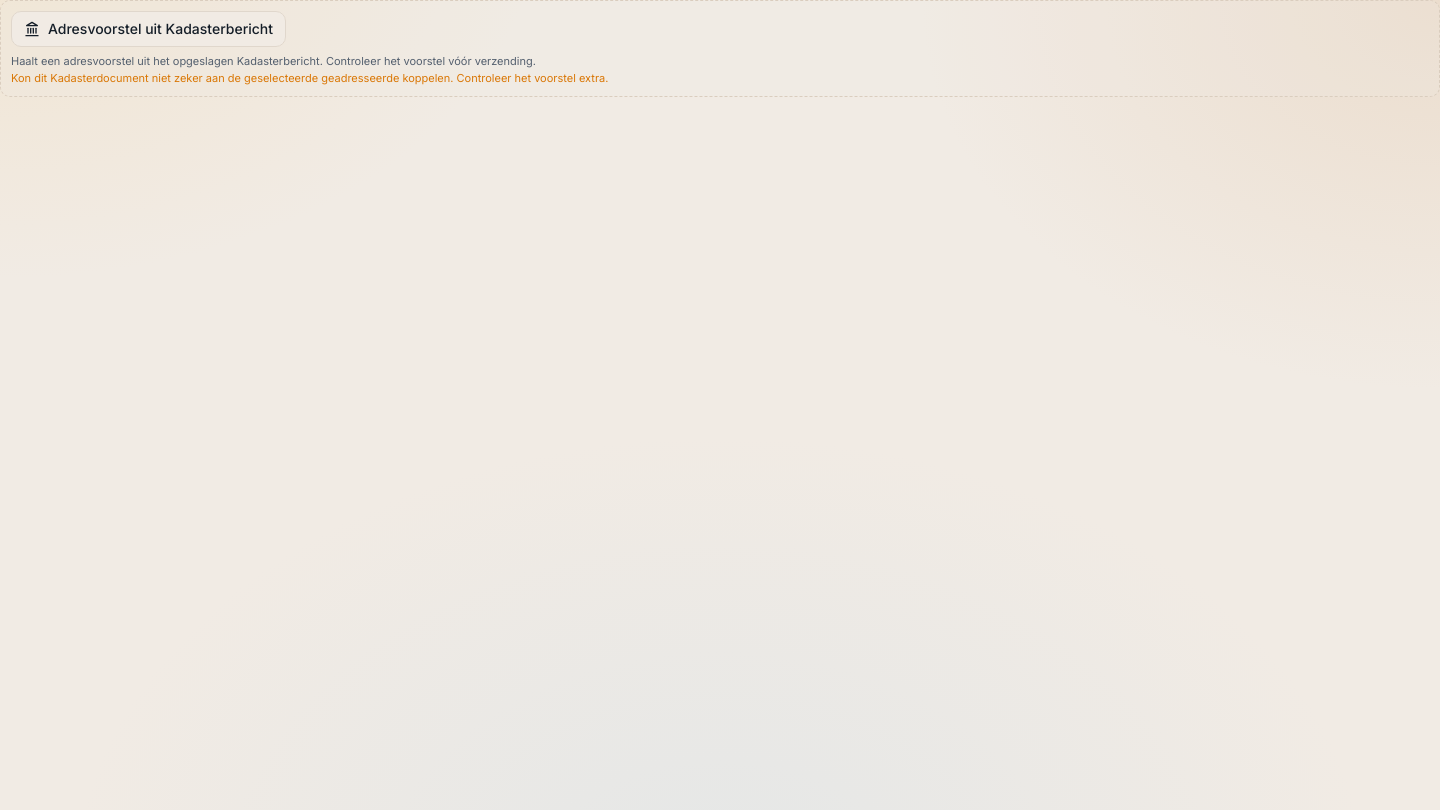
Test: KadasterPdfAdresVoorstelPanel · labels en matching › toont volledige naam in het labelmaar geen adres (trigger reflecteert match)
This screenshot has width=1440, height=810.
Click the button with test id "kpv-start-knop" at (148, 29), box left=11, top=11, right=286, bottom=47
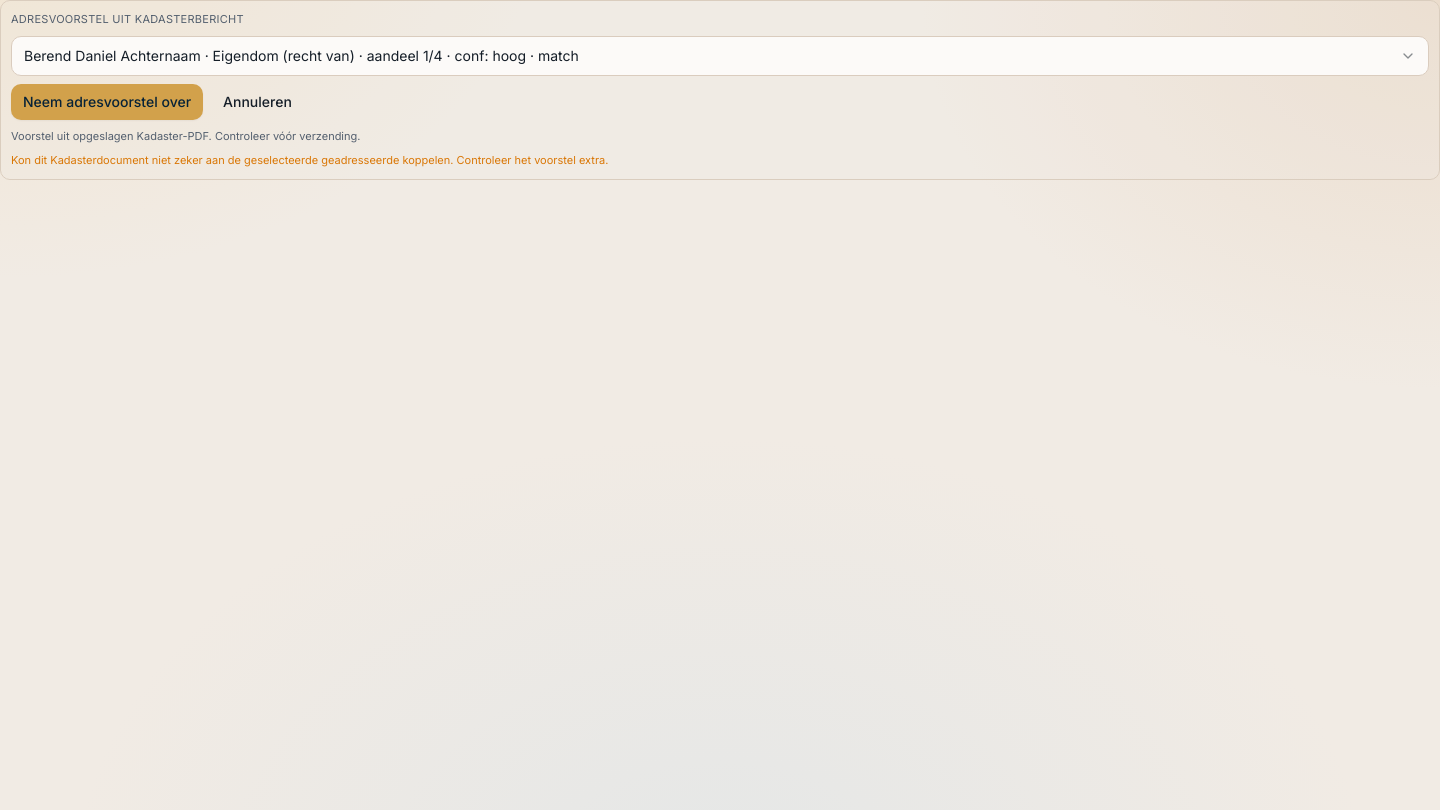
Now the dropdown with test id "kpv-keuze-trigger" shows "Berend Daniel Achternaam", box left=11, top=36, right=1429, bottom=76
Now the dropdown with test id "kpv-keuze-trigger" shows "match", box left=11, top=36, right=1429, bottom=76
Now the dropdown with test id "kpv-keuze-trigger" shows "aandeel 1/4", box left=11, top=36, right=1429, bottom=76
